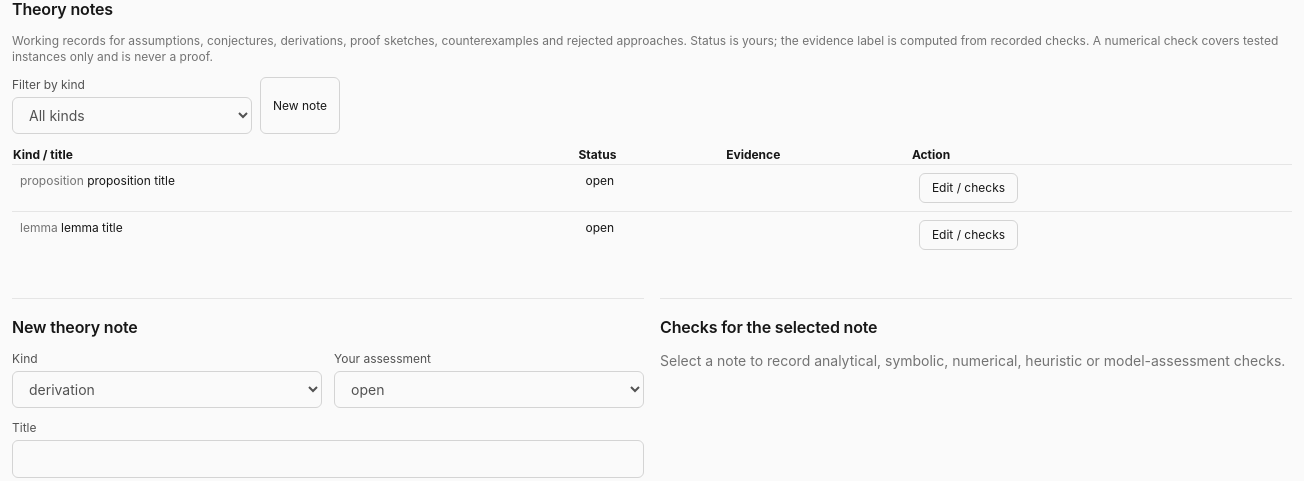
does not ask once the note has been saved
Click the 1st button "Edit / checks" at (968, 188), box [919,173,1018,203]
(page scrolled)
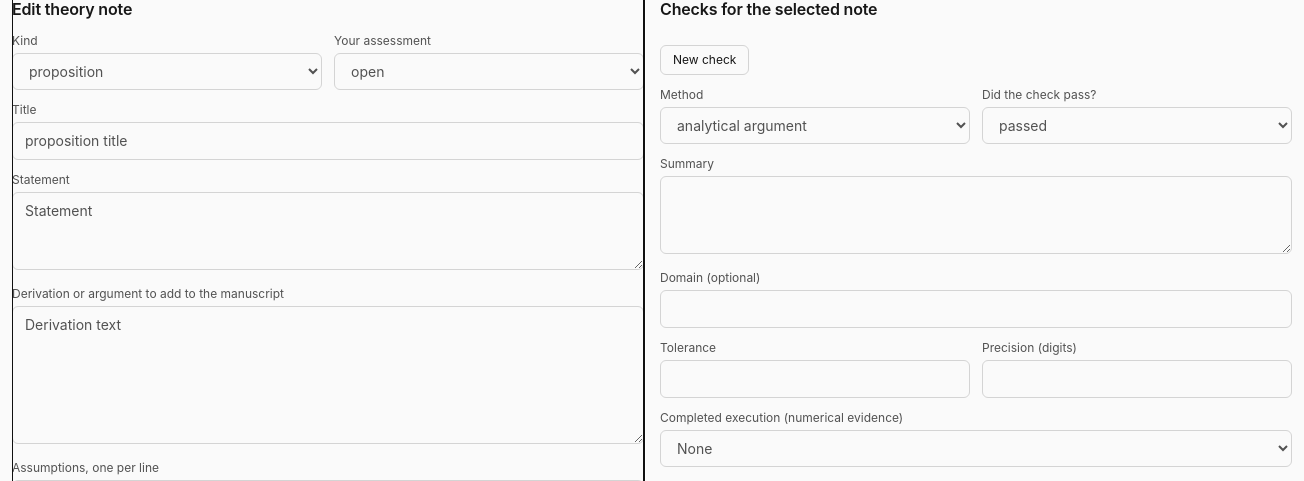
Replace the text in the field labelled "Title" with "Saved title" at (328, 141), box [12,122,644,160]
(page scrolled)
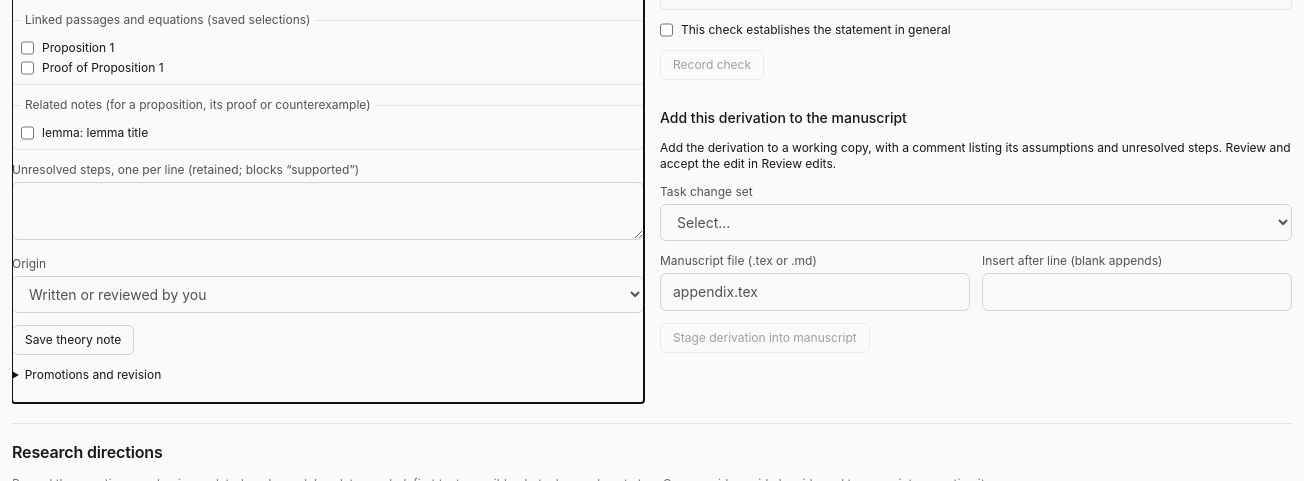
Click the button "Save theory note" at (73, 340), box [12,325,134,355]
(page scrolled)
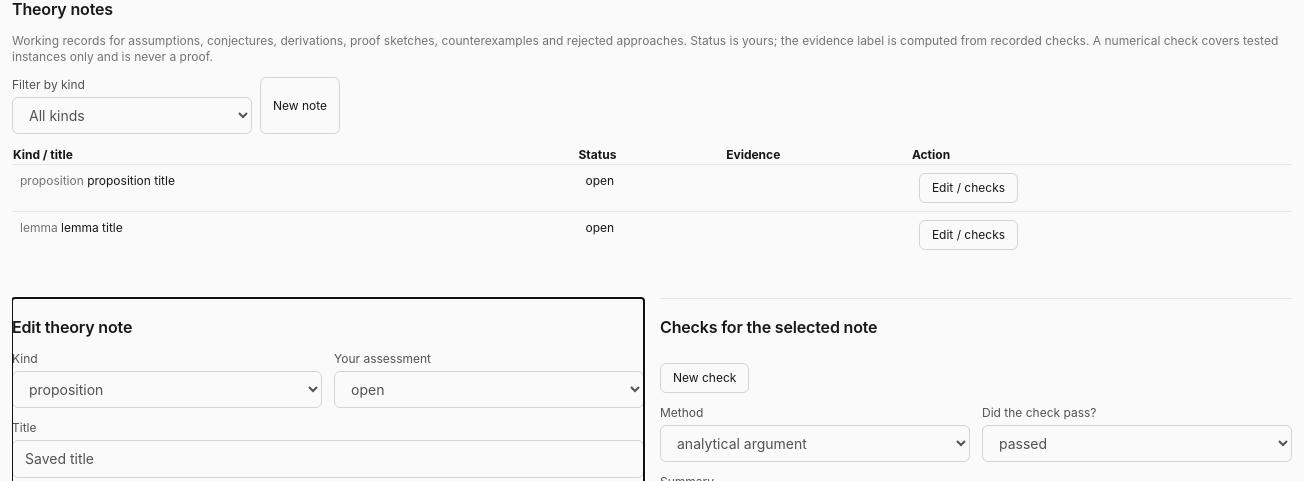
Click the 2nd button "Edit / checks" at (968, 235), box [919,220,1018,250]
(page scrolled)
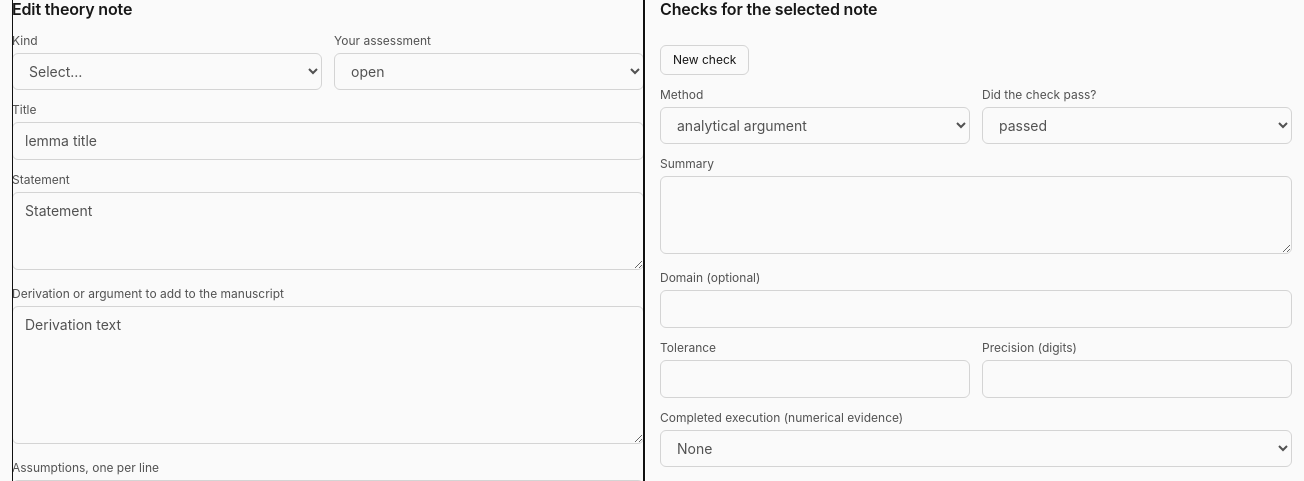
Result: the field labelled "Title" holds "lemma title" at [12,122,644,160]
